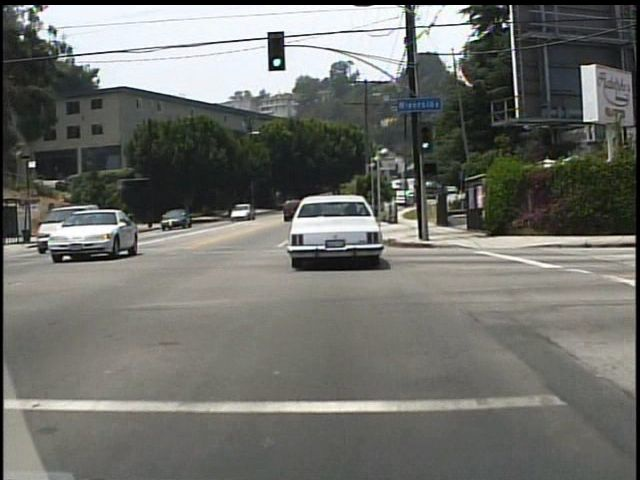person: (127, 209, 139, 233)
